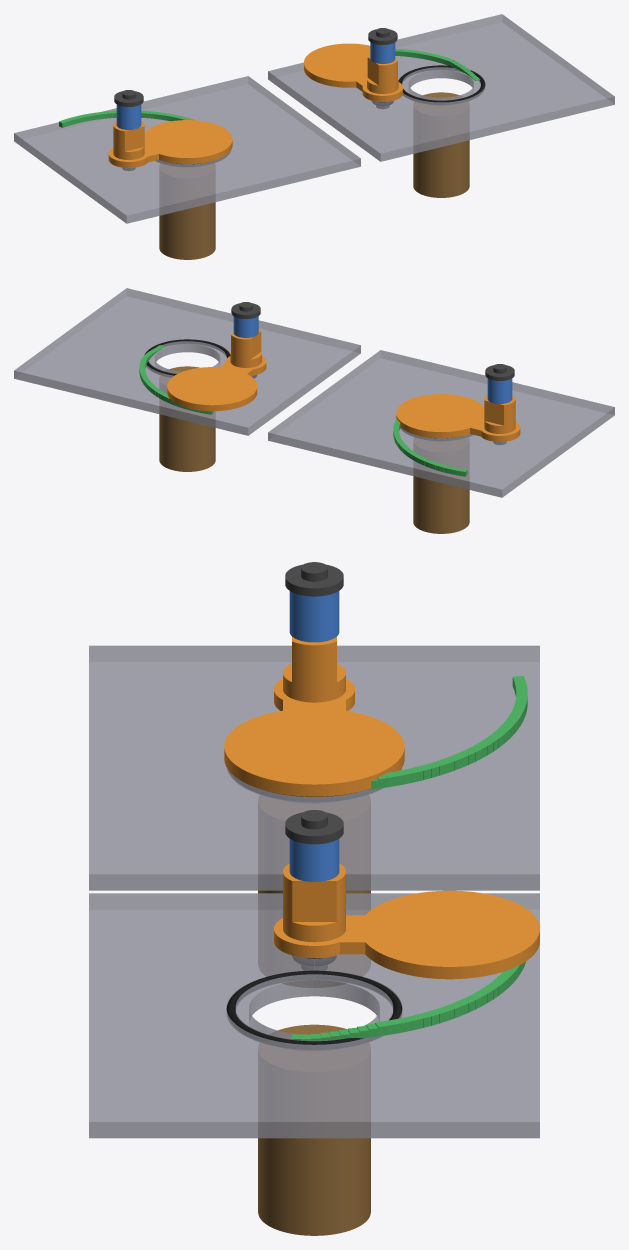
The picture shows the model from 3 angles, top to bottom: view 1: azimuth 30°, elevation 25°; view 2: azimuth 150°, elevation 25°; view 3: azimuth 270°, elevation 25°; orthographic projection. The views are drawn at different scales.
Visible parts, largest first — view 1: lid_open, lid_closed, pod_open, pod_closed, cover_closed, cover_open, ramp_closed, oring_open, ramp_open, spring_closed, spring_open, pin_closed (+1 smaller); view 2: lid_closed, lid_open, cover_closed, pod_closed, cover_open, pod_open, ramp_closed, ramp_open, spring_closed, spring_open, oring_open, pin_closed (+1 smaller); view 3: lid_closed, lid_open, pod_open, cover_open, cover_closed, pod_closed, ramp_open, oring_open, ramp_closed, spring_closed, spring_open, pin_open (+1 smaller).
Part boxes in pixels (x1,y1,x2,y2): lid_open: (268, 14, 614, 161); lid_closed: (14, 76, 360, 223); pod_open: (413, 92, 469, 197); pod_closed: (159, 164, 215, 259); cover_closed: (108, 120, 232, 167); cover_open: (304, 43, 402, 101); ramp_closed: (59, 110, 194, 127); oring_open: (398, 65, 485, 104); ramp_open: (395, 48, 480, 80); spring_closed: (116, 104, 141, 129); spring_open: (370, 42, 395, 63); pin_closed: (114, 90, 143, 170); lid_closed: (268, 350, 614, 497); lid_open: (14, 288, 360, 435); cover_closed: (396, 394, 520, 441); pod_closed: (413, 438, 469, 533); cover_open: (167, 329, 266, 411); pod_open: (159, 366, 215, 471); ramp_closed: (393, 419, 467, 476); ramp_open: (139, 345, 213, 414); spring_closed: (487, 378, 512, 403); spring_open: (233, 316, 258, 337); oring_open: (144, 339, 230, 376); pin_closed: (485, 364, 514, 444); lid_closed: (89, 645, 539, 890); lid_open: (89, 893, 539, 1138); pod_open: (258, 1024, 370, 1235); cover_open: (274, 863, 539, 979); cover_closed: (224, 637, 404, 796); pod_closed: (258, 795, 370, 987); ramp_open: (291, 961, 525, 1040); oring_open: (226, 970, 402, 1049); ramp_closed: (365, 676, 527, 790); spring_closed: (289, 591, 339, 642); spring_open: (289, 839, 339, 881); pin_open: (285, 810, 343, 970).
Size of the model in its own units: 250 by 83 by 100.
